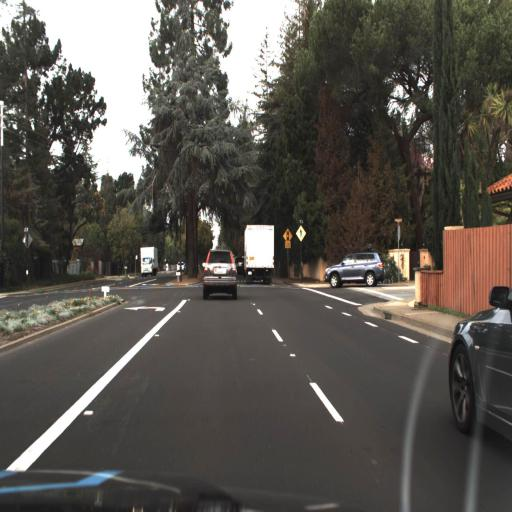car: (446, 274, 511, 454), (196, 238, 239, 309), (322, 247, 385, 291), (240, 220, 281, 287), (324, 247, 383, 285), (137, 241, 163, 282), (175, 259, 183, 274)
truck: (243, 221, 275, 284), (139, 243, 157, 275)
